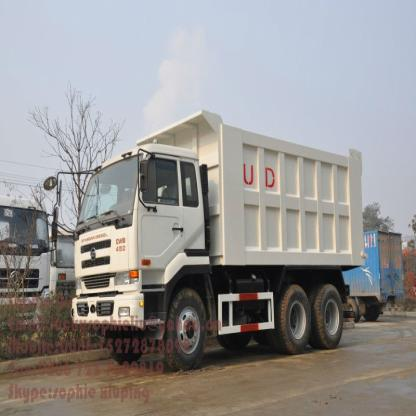dump_truck: (69, 89, 378, 387)
